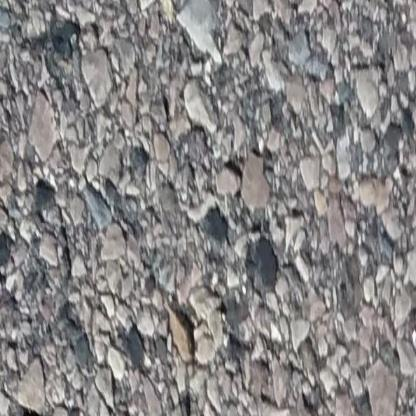Cracks: (0, 382, 46, 416)
